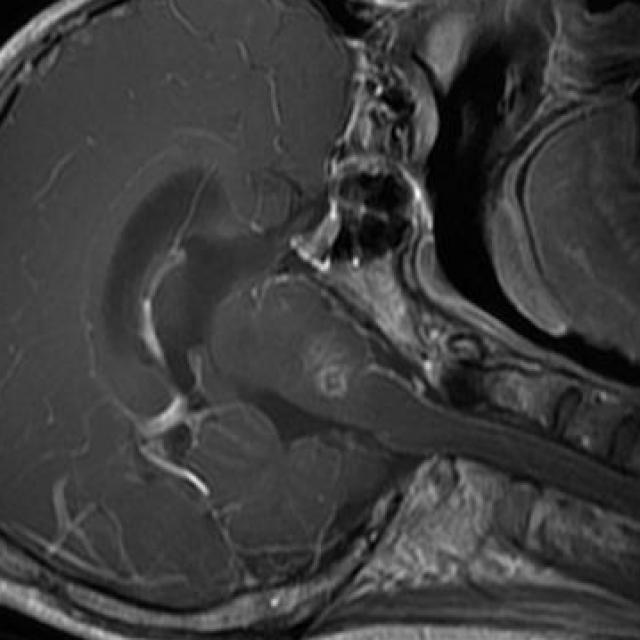glioma: (305, 328, 364, 399)
